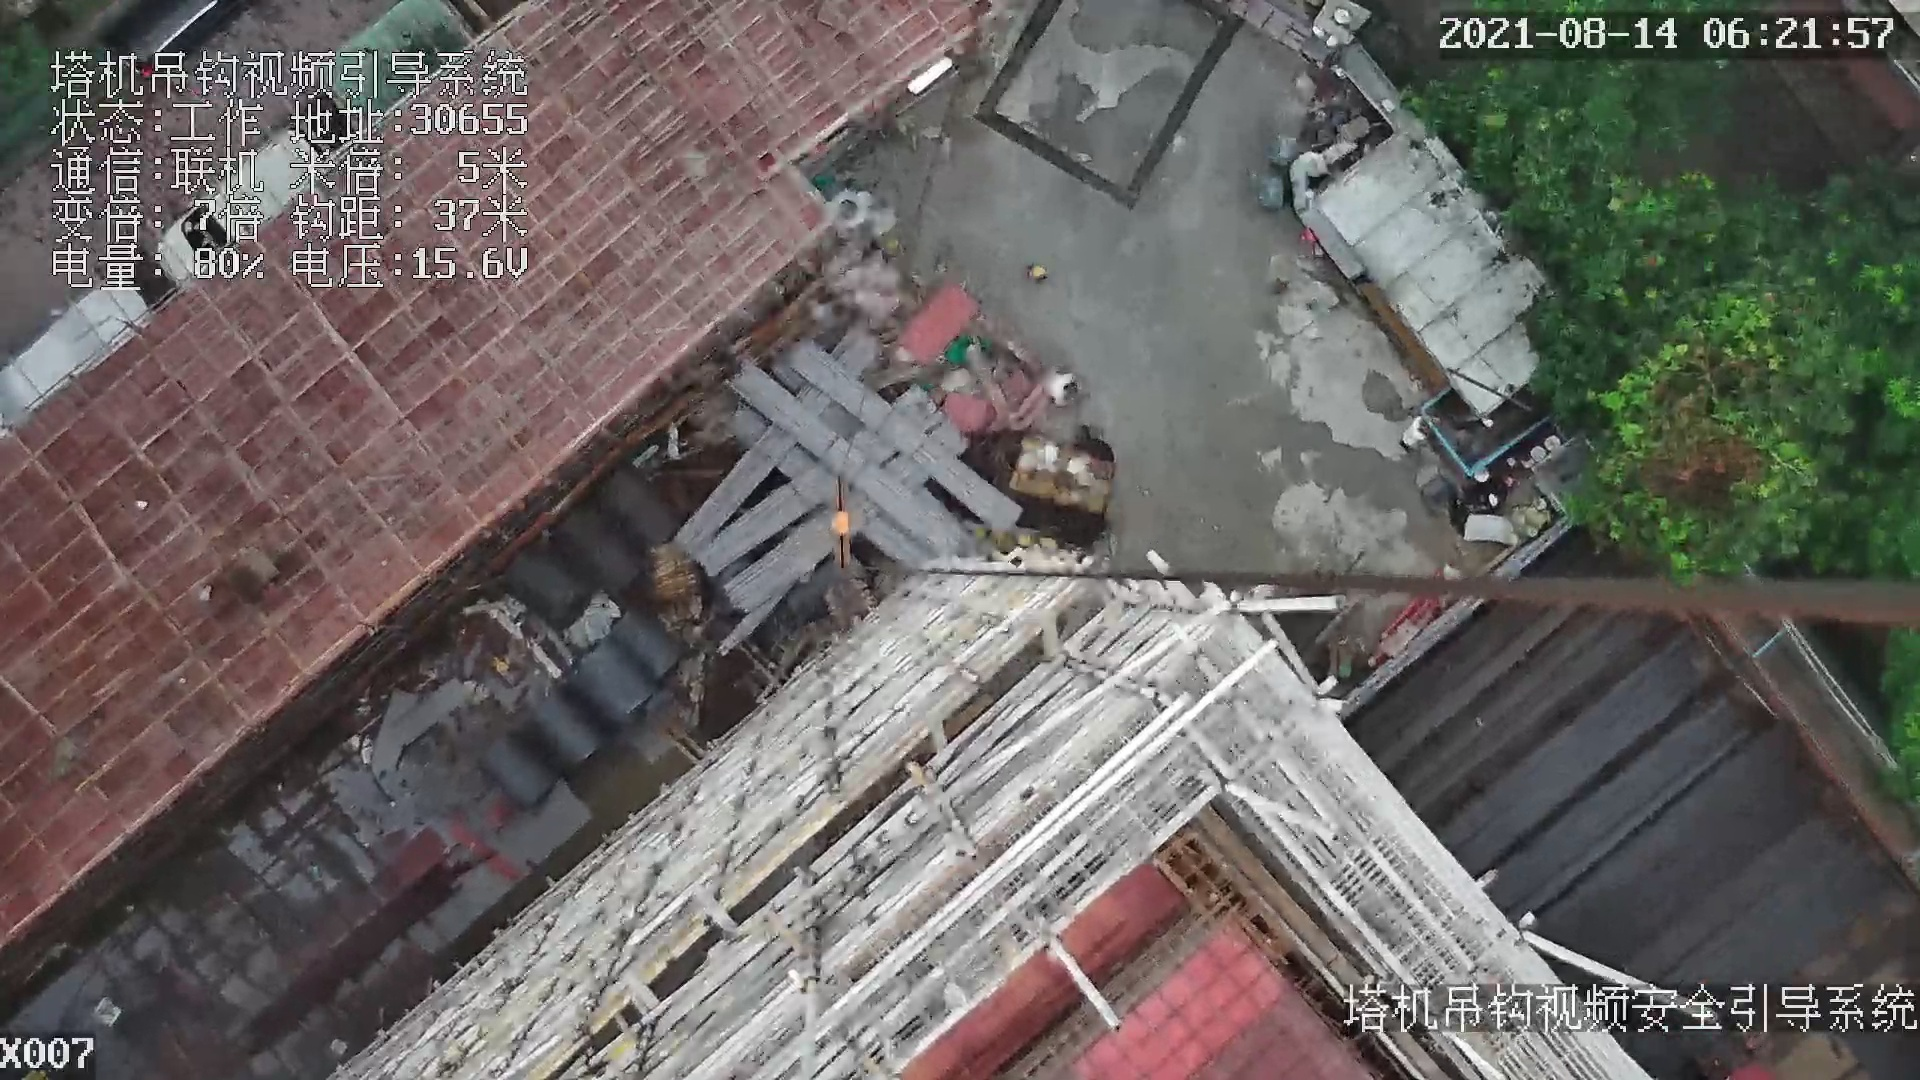hook: (820, 476, 858, 567)
